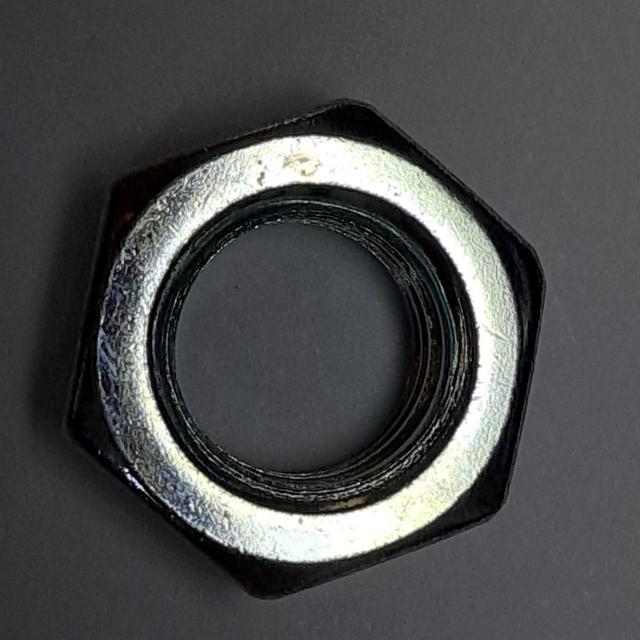Excellent: (49, 79, 558, 615)
